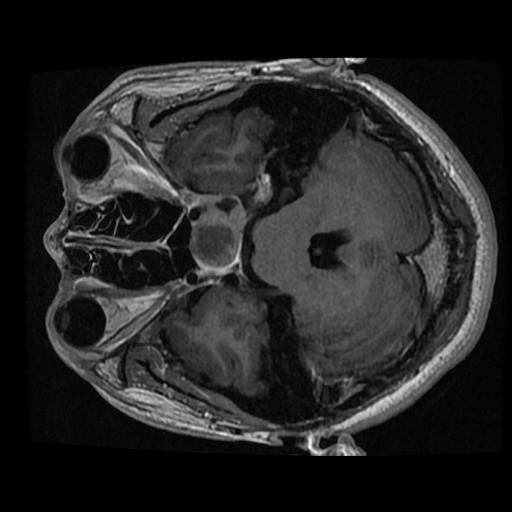pituitary tumour: (189, 206, 245, 275)
